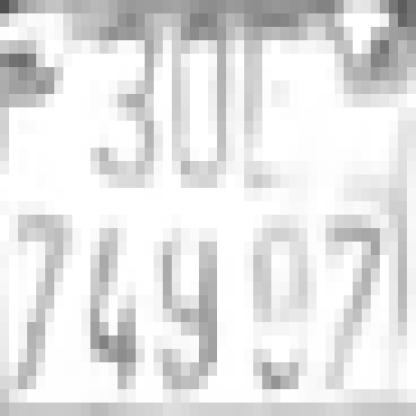0: (172, 13, 226, 188)
4: (90, 214, 145, 376)
7: (9, 201, 72, 376)
E: (99, 13, 163, 188)
